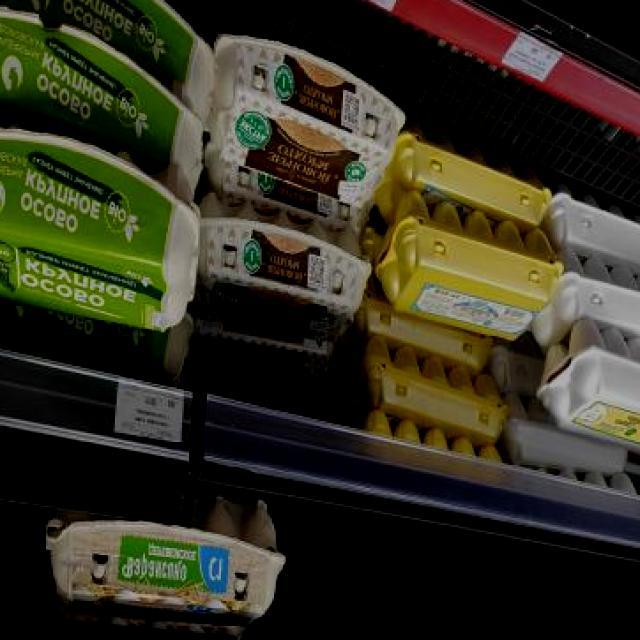Eggs: (40, 445, 290, 640), (0, 104, 203, 341), (0, 0, 205, 166), (207, 41, 410, 208), (192, 196, 374, 352)
